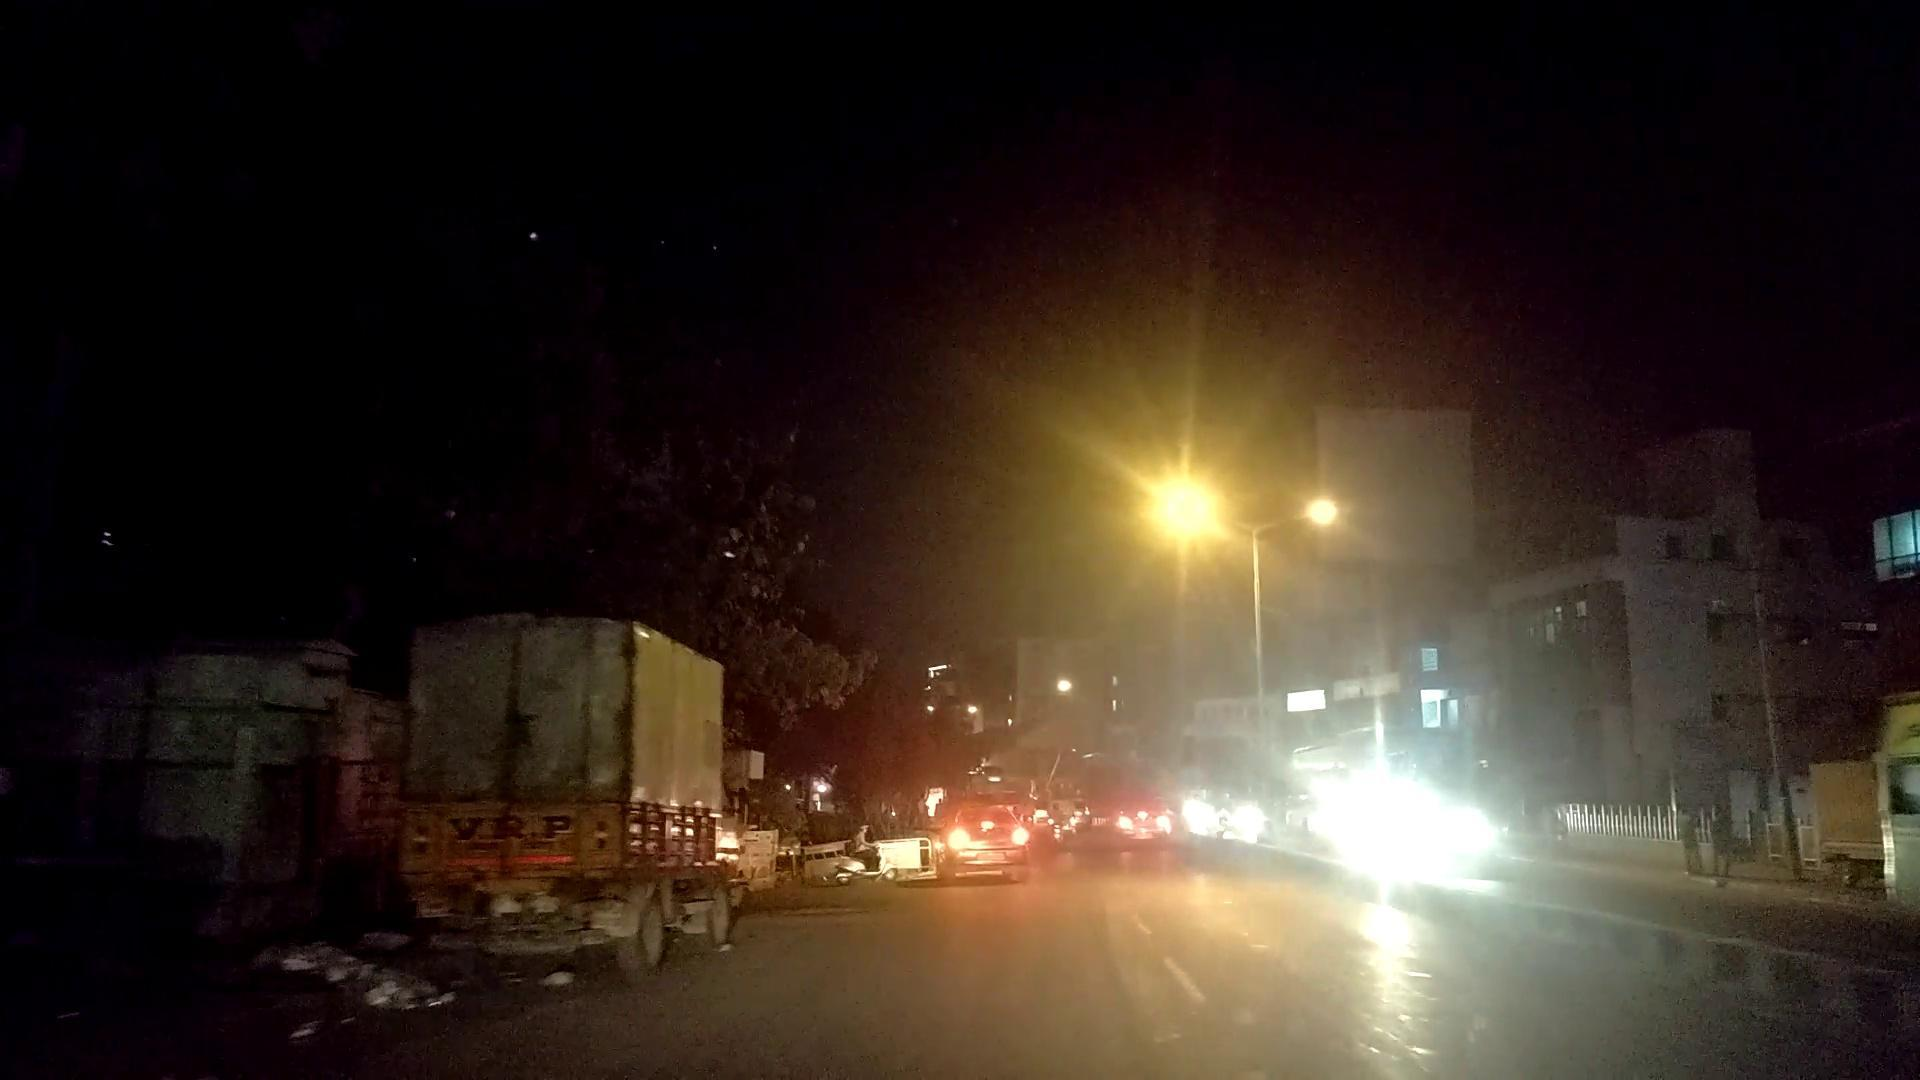on: (980, 282, 1527, 811)
